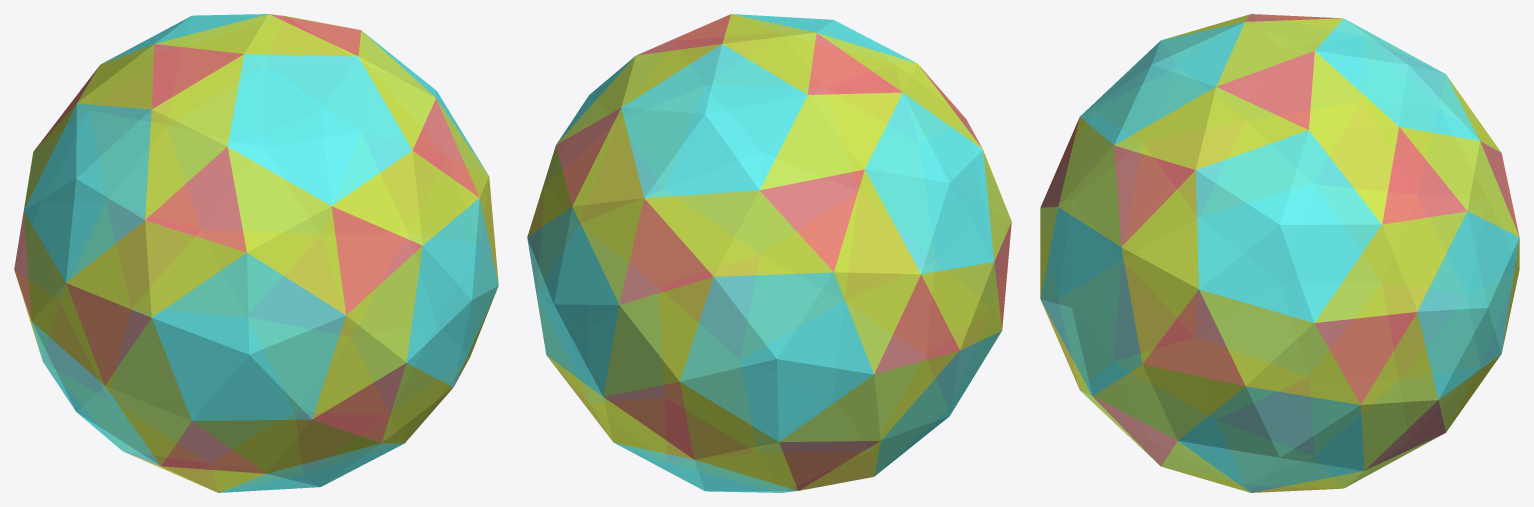
The model's file is BiscribedPentakisSnubDodecahedron.obj.
3 renders of one model, left to right at view 1: azimuth 30°, elevation 25°; view 2: azimuth 150°, elevation 25°; view 3: azimuth 270°, elevation 25°, orthographic.
Size of the model in its own units: 1.96 by 1.96 by 1.96.
